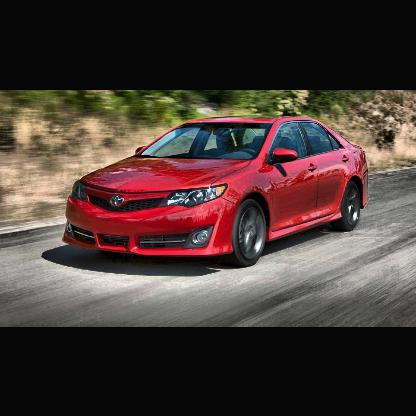Toyota Camry Sedan 2012: (61, 114, 373, 270)
